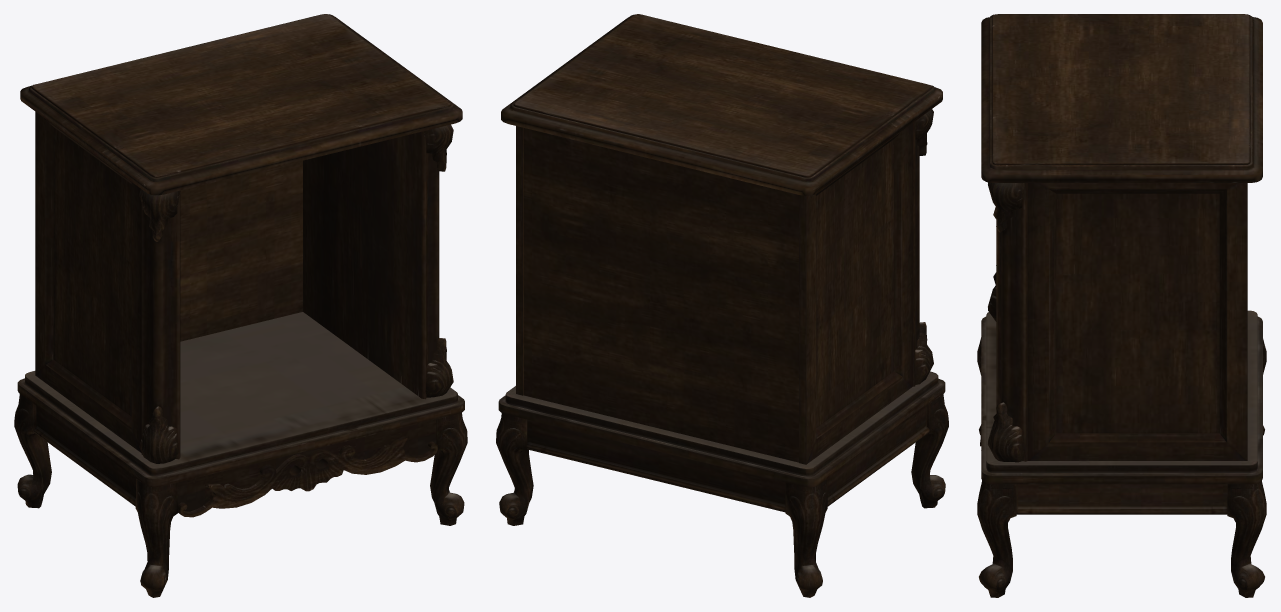
Rendered from ClassicNightstand_01_1k.gltf.
3 renders of one model, left to right at view 1: azimuth 30°, elevation 25°; view 2: azimuth 150°, elevation 25°; view 3: azimuth 270°, elevation 25°, orthographic. The views are drawn at different scales.
Visible parts, largest first — view 1: ClassicNightstand_01; view 2: ClassicNightstand_01; view 3: ClassicNightstand_01.
Boxes of the visible parts, left/top/right/bottom form: ClassicNightstand_01: left=14, top=14, right=467, bottom=597; ClassicNightstand_01: left=496, top=14, right=948, bottom=597; ClassicNightstand_01: left=977, top=14, right=1266, bottom=597.
Size of the model in its own units: 0.5678 by 0.7 by 0.4242.
Materials: 1 (1 with a texture image).
